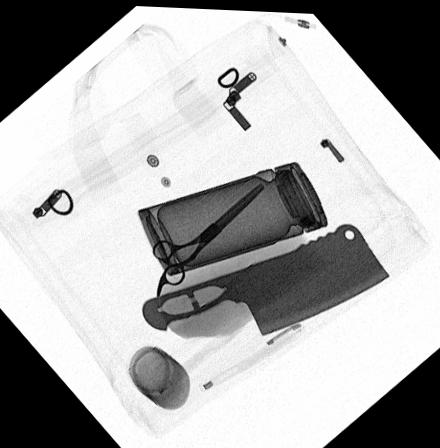Knife: (141, 219, 389, 332)
Scissors: (150, 179, 265, 296)
